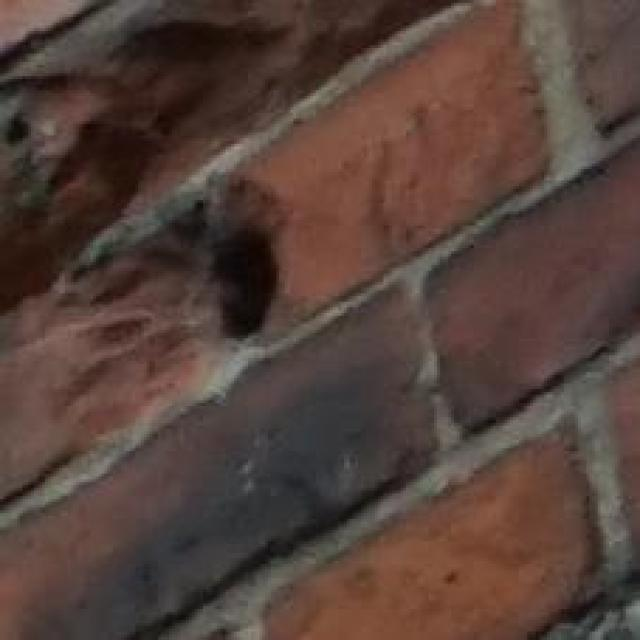Crack: (0, 0, 482, 495)
